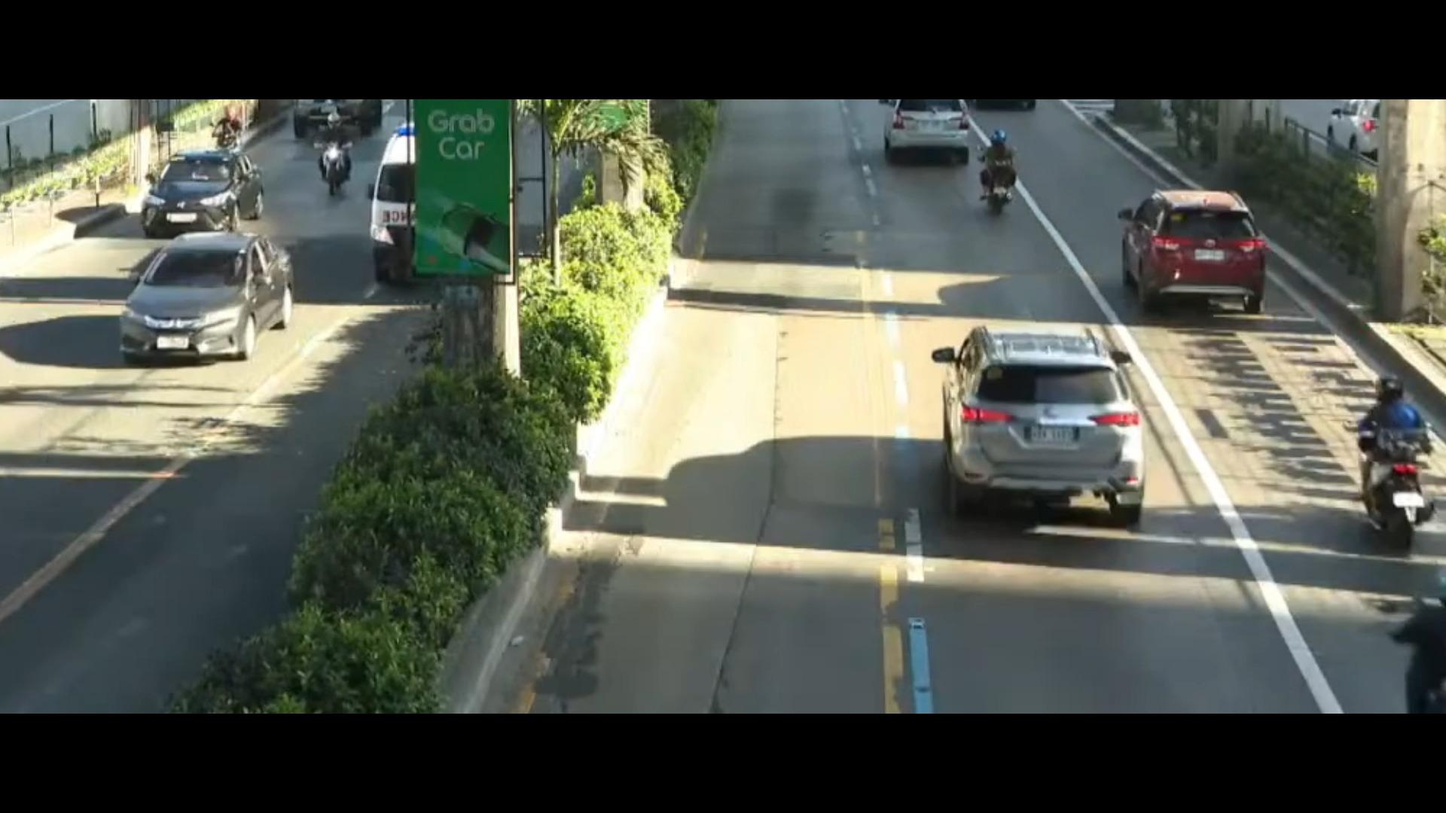Motorcycle: (1316, 367, 1441, 554), (964, 121, 1038, 233), (309, 106, 351, 187), (214, 107, 256, 166)
SUV: (919, 318, 1166, 545), (1113, 172, 1292, 333), (872, 104, 971, 185)
Sedan: (99, 222, 307, 372), (140, 134, 288, 233)
ambulance: (360, 131, 431, 305)
